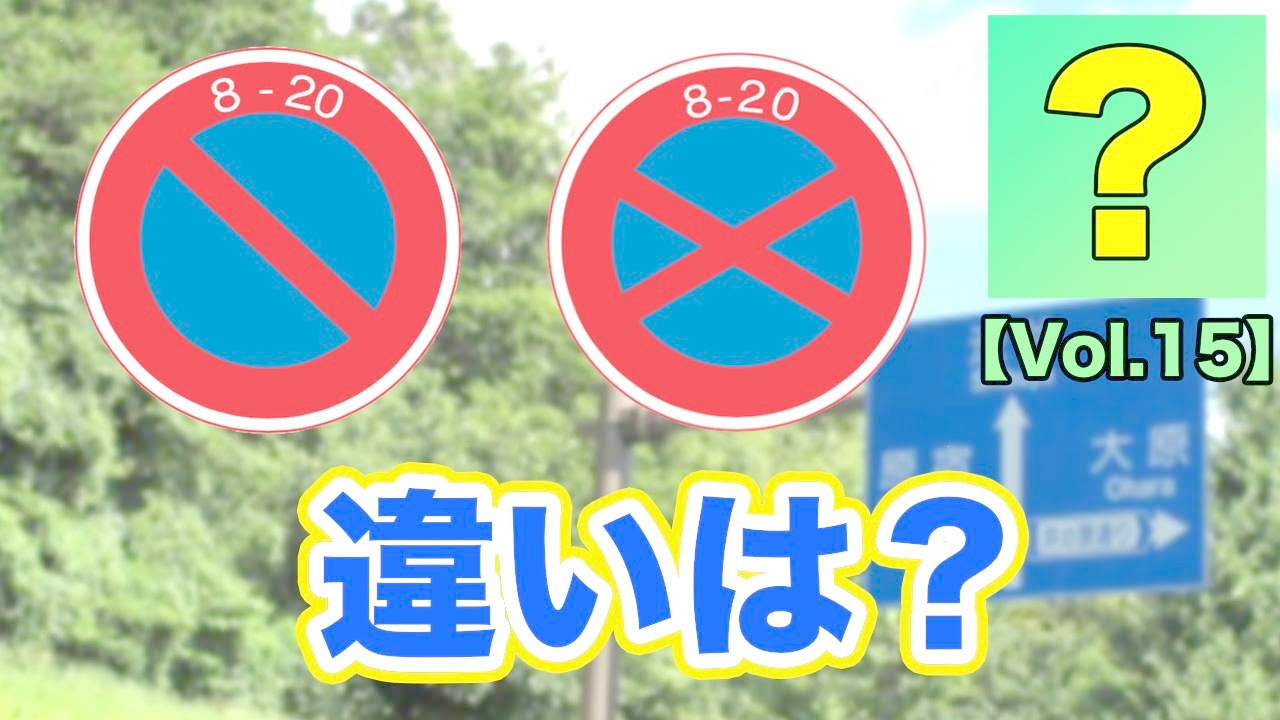Prohibition_sign: (68, 43, 499, 467)
